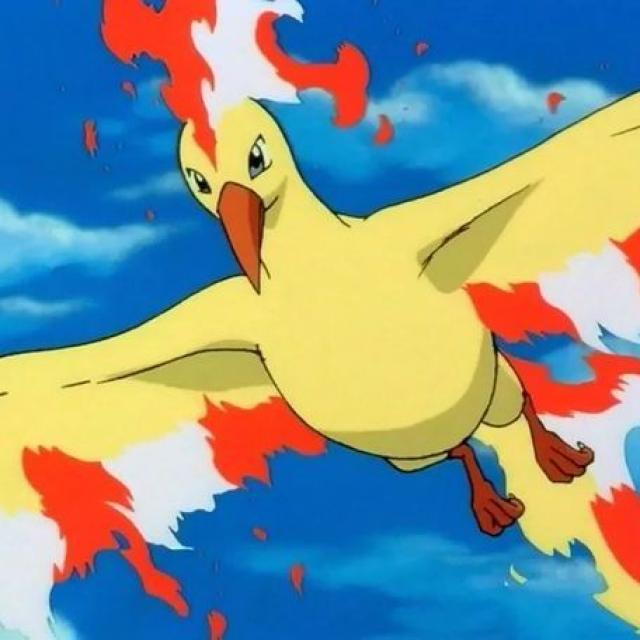Moltres: (0, 0, 595, 529)
